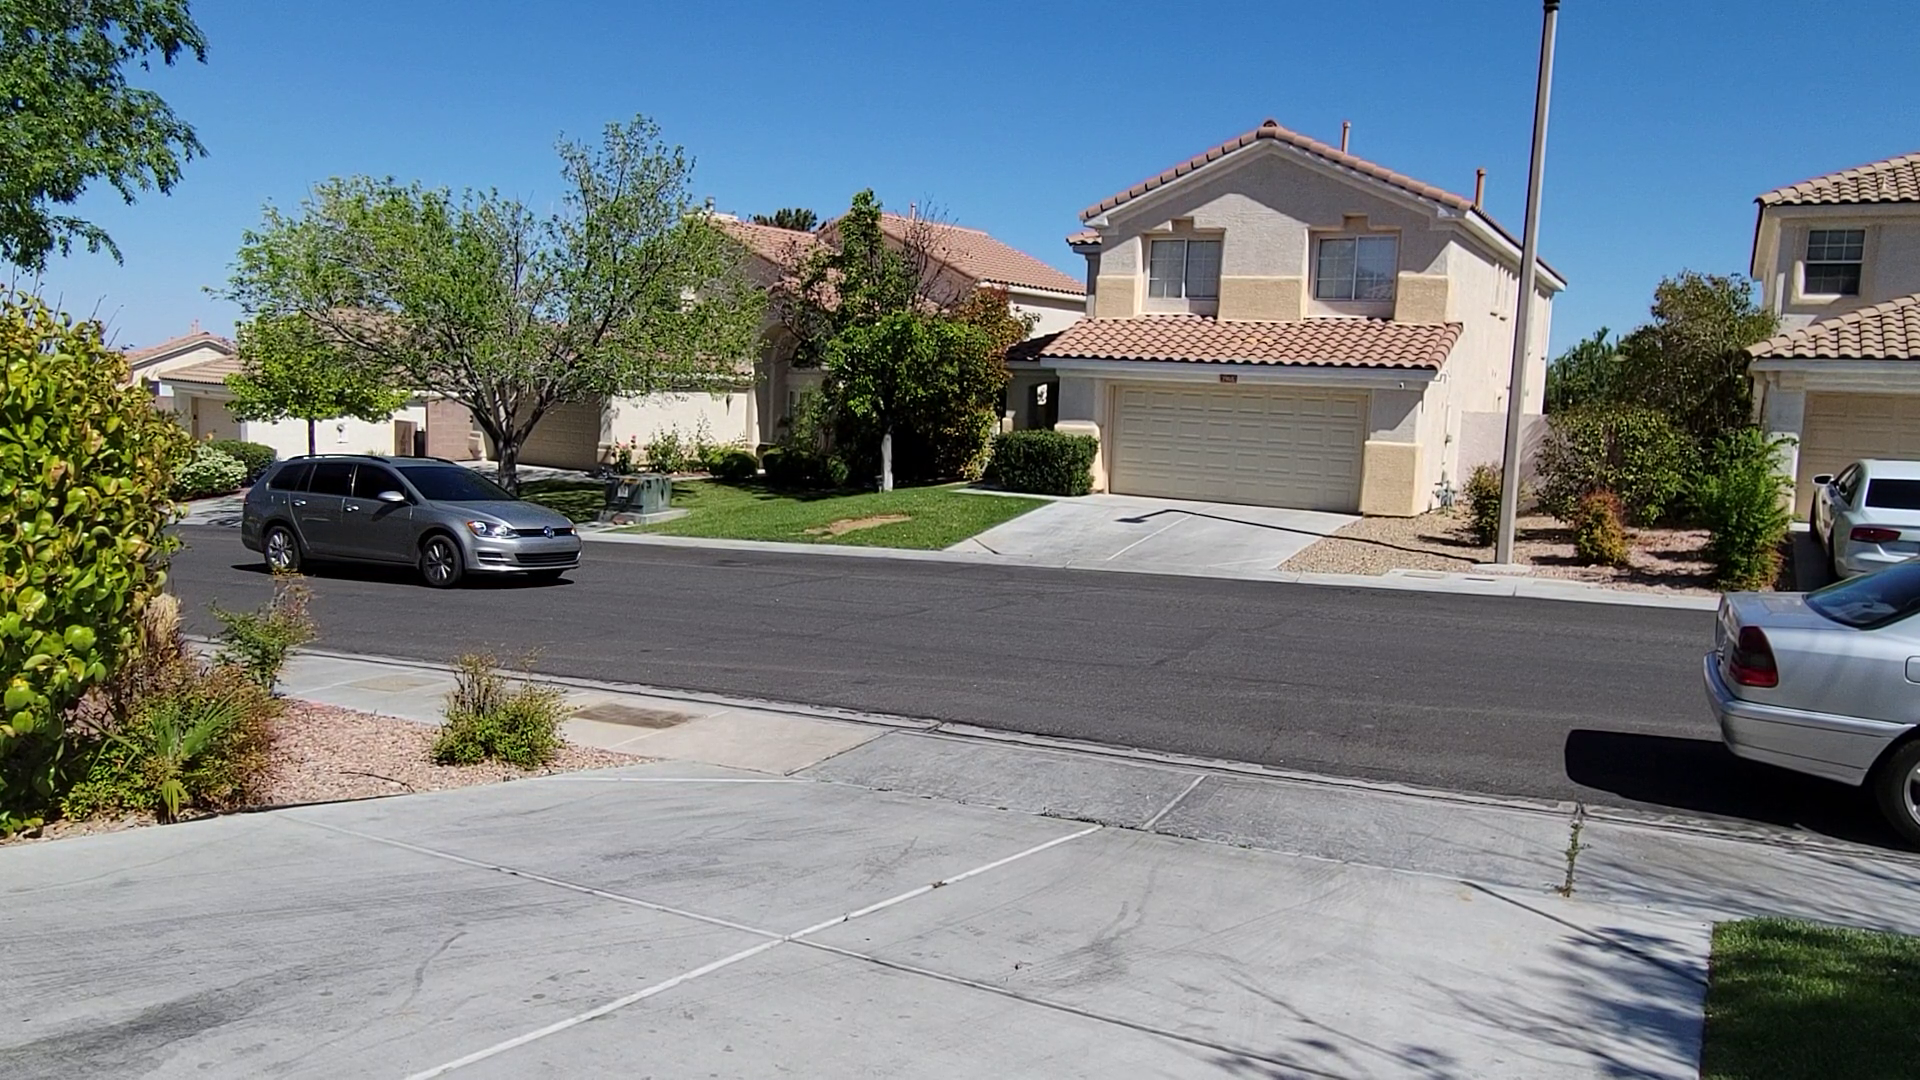car: (239, 452, 584, 591)
